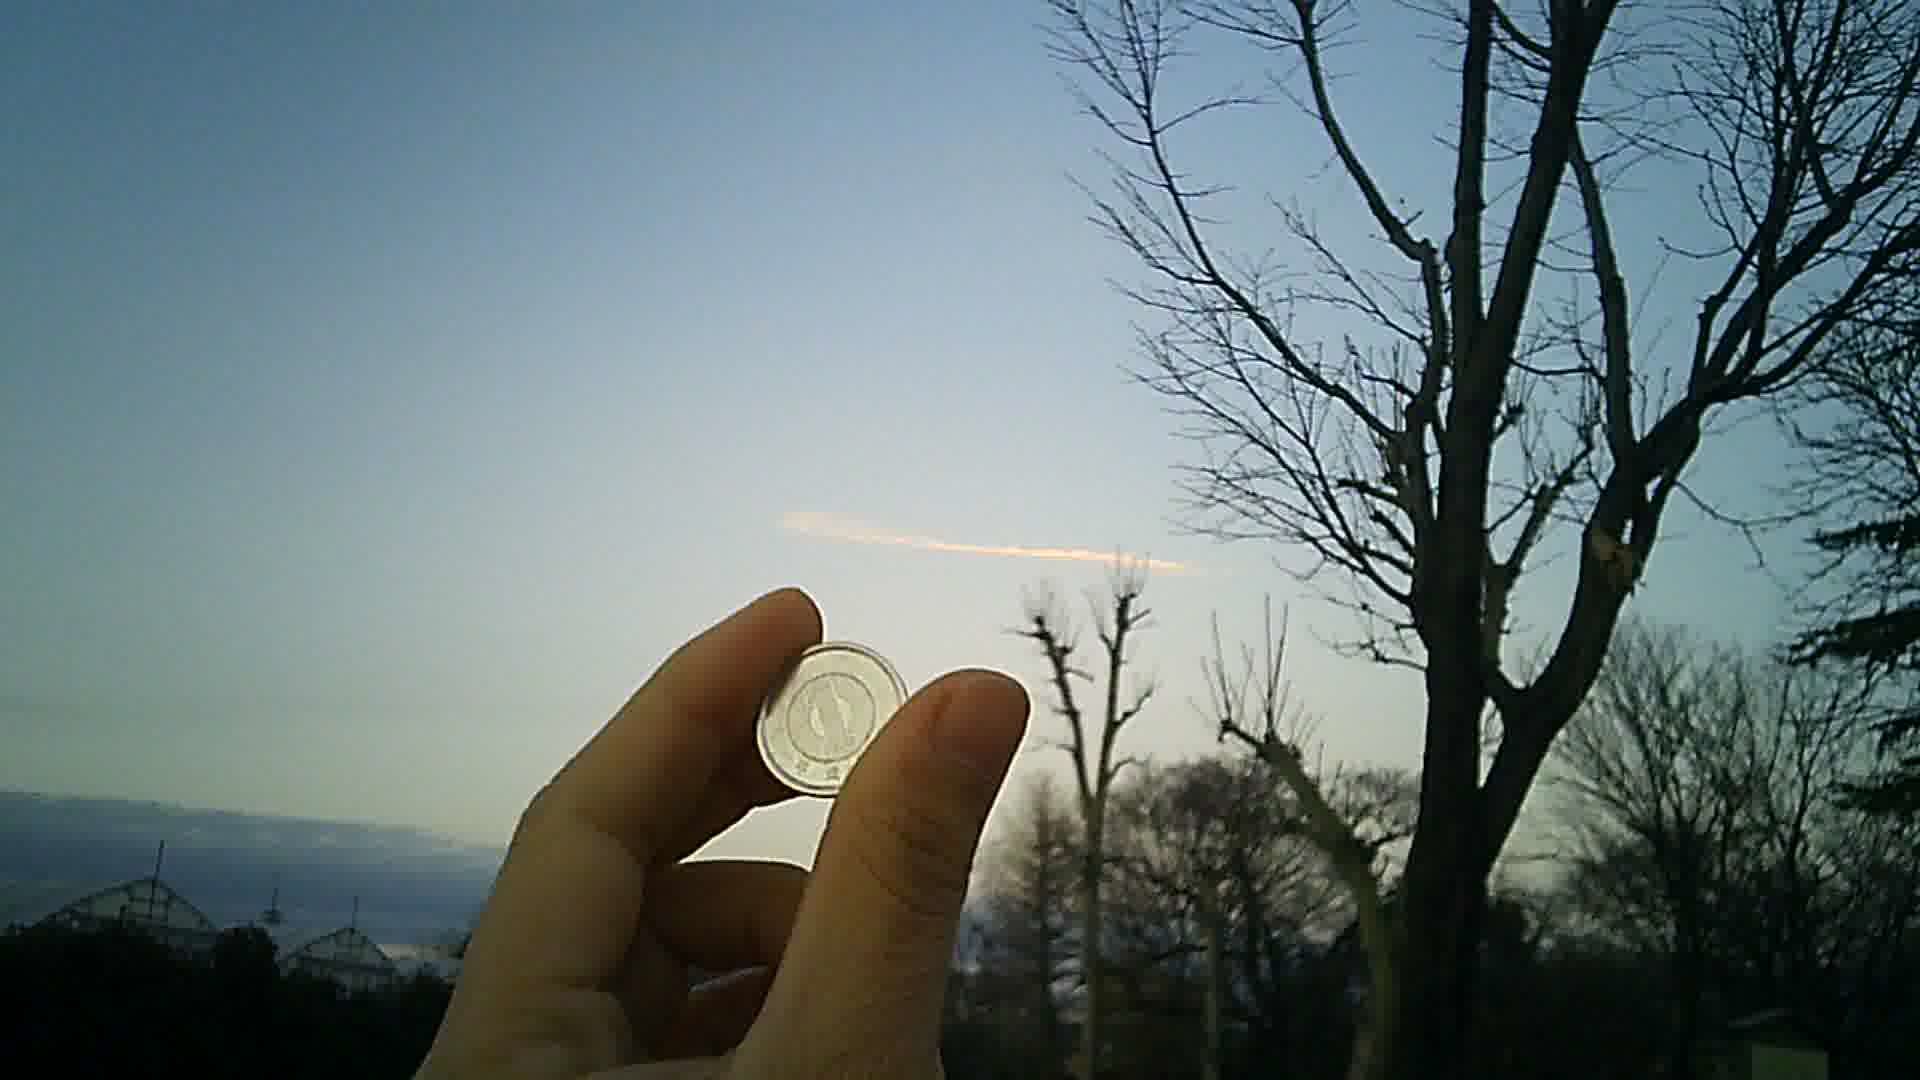1 Yen: (752, 637, 920, 800)
